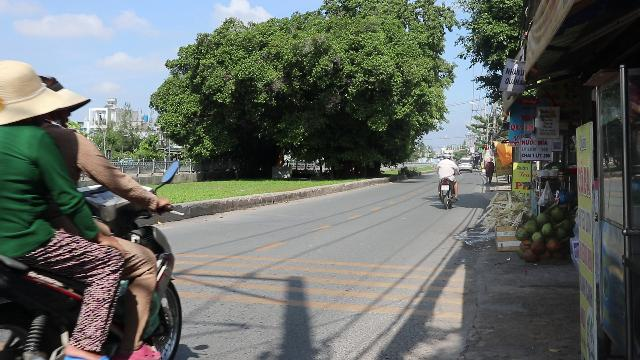motorcyclist: (1, 58, 190, 356)
nohelmet: (0, 59, 60, 125)
